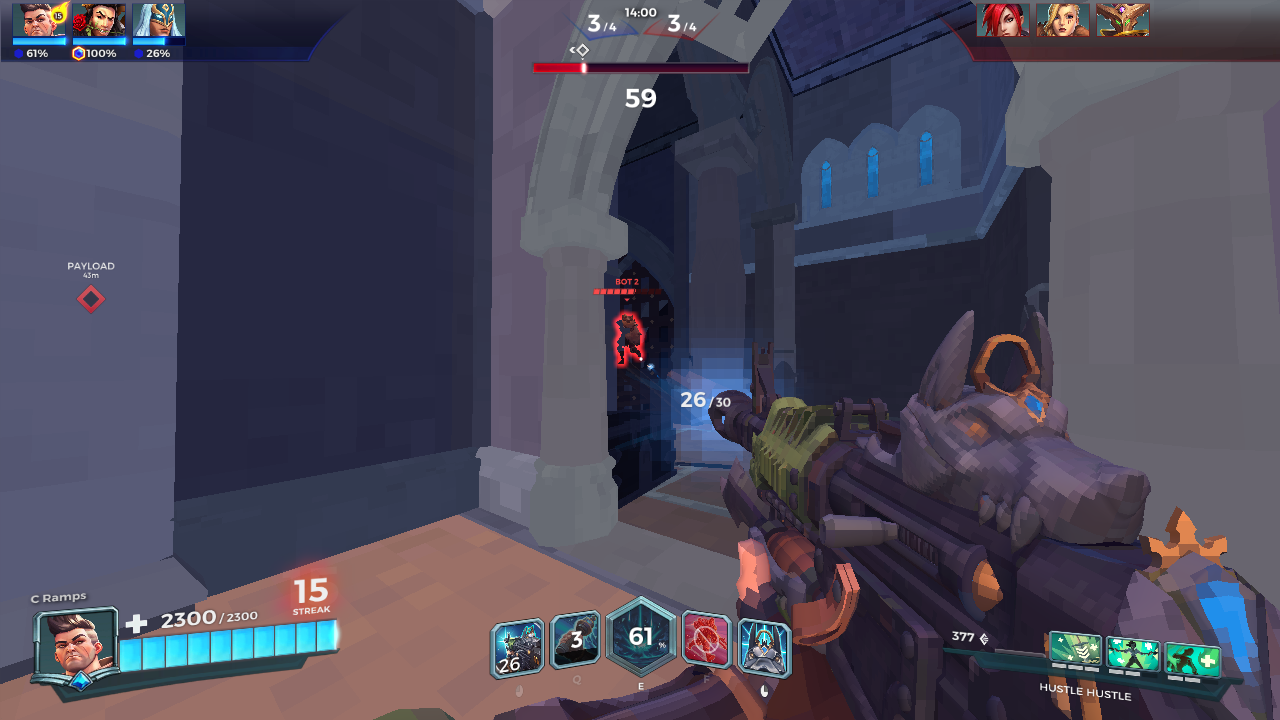model: (611, 309, 642, 369)
